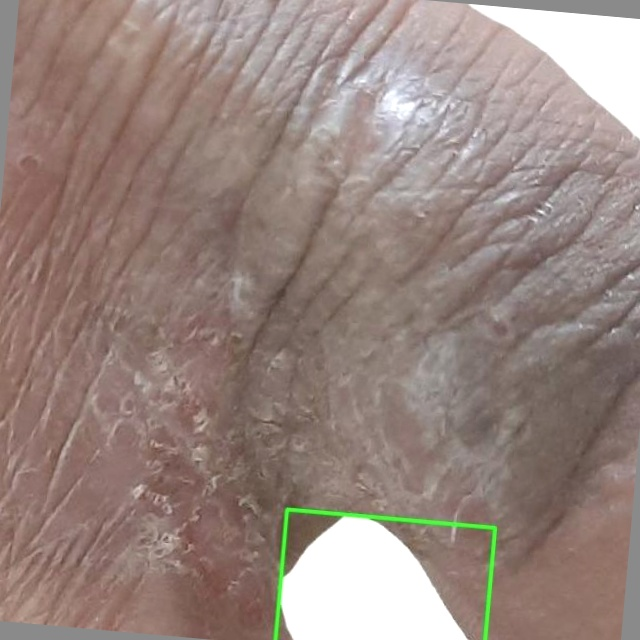Eczema: (275, 509, 495, 639)
